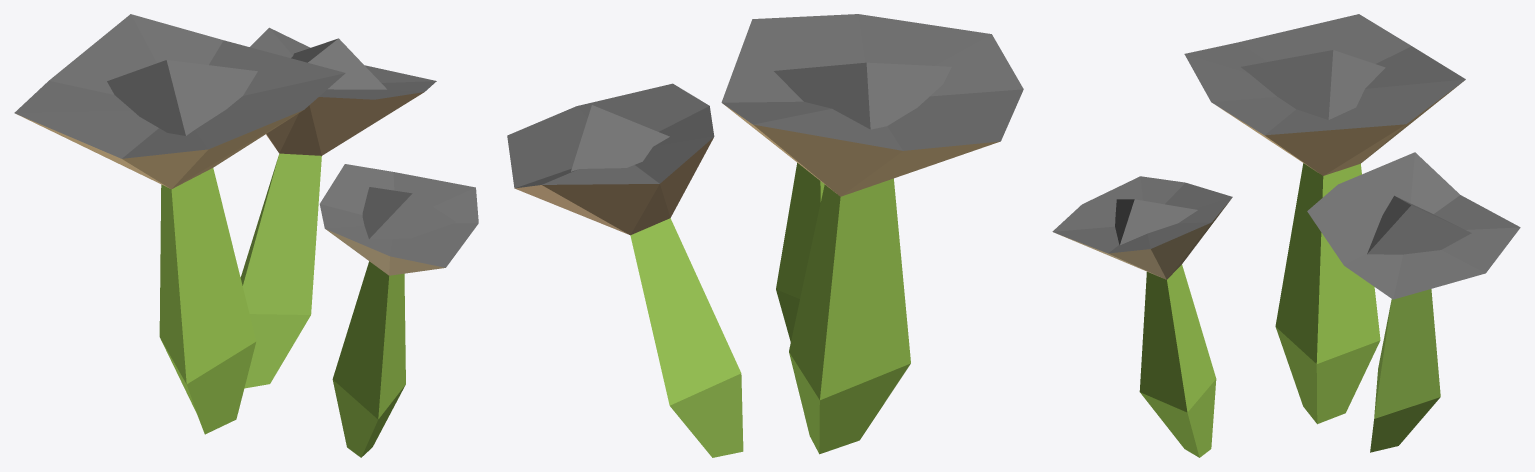
File: Env_Flower02.fbx
3 renders of one model, left to right at view 1: azimuth 30°, elevation 25°; view 2: azimuth 150°, elevation 25°; view 3: azimuth 270°, elevation 25°, orthographic. The views are drawn at different scales.
Visible parts, largest first — view 1: Env_Flower02; view 2: Env_Flower02; view 3: Env_Flower02.
Part boxes in pixels (x1,y1,x2,y2): Env_Flower02: [14, 14, 478, 457]; Env_Flower02: [507, 14, 1023, 457]; Env_Flower02: [1052, 14, 1520, 457].
Bounding box in the file's own units: 59.15 × 47.24 × 57.92.
Materials: 1 (1 with a texture image).
